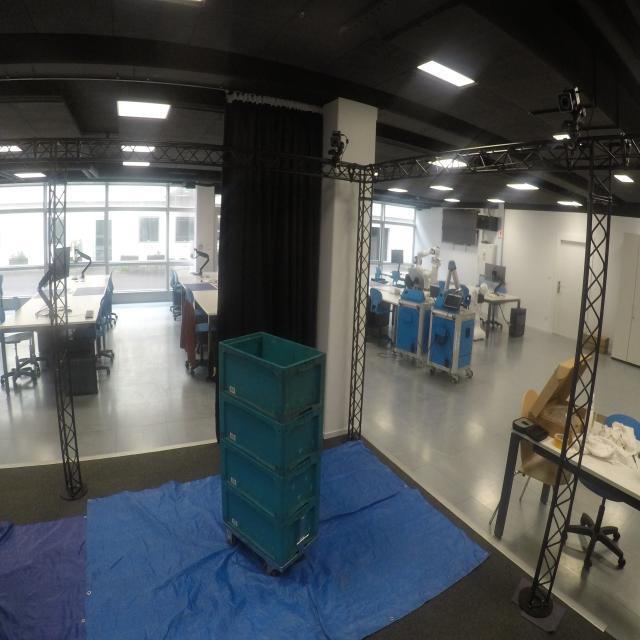BoxB4: (219, 331, 326, 424), (217, 393, 324, 477), (220, 480, 320, 567), (218, 438, 321, 522)
